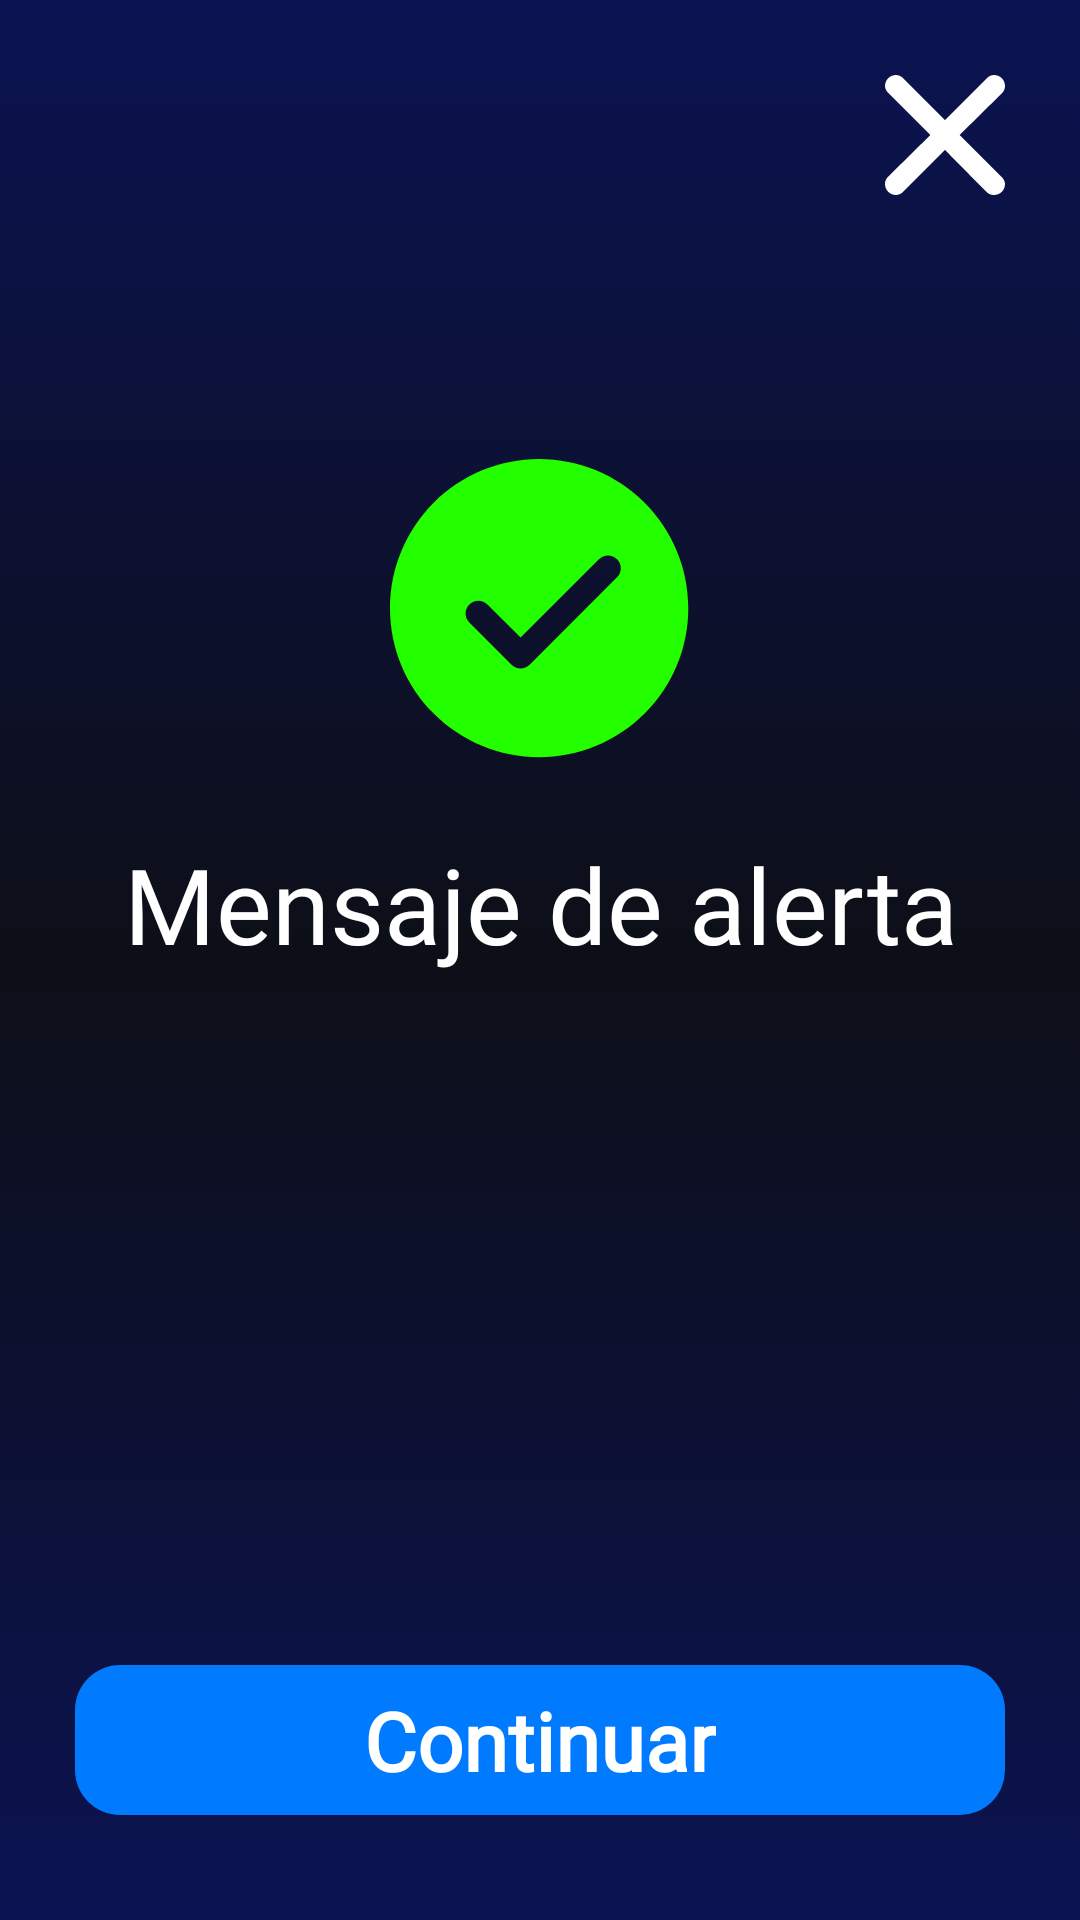

Where icons sit on this 1080*1920 app screen, as Rect(x1, y1, x2, y2):
close: Rect(885, 75, 1005, 195)
success: Rect(390, 459, 689, 758)
